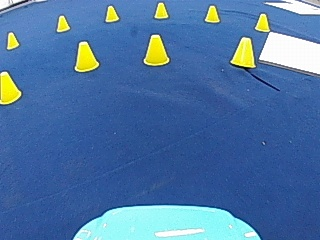cone: (142, 33, 169, 65), (73, 39, 99, 71), (230, 35, 255, 67), (0, 70, 21, 103), (203, 4, 220, 23), (254, 12, 269, 32), (153, 1, 168, 19), (104, 4, 119, 22), (55, 14, 70, 32), (5, 31, 19, 49)
